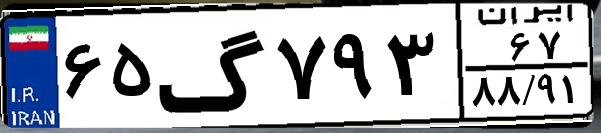1: (560, 70, 590, 125)
3: (385, 28, 445, 110)
5: (110, 28, 156, 98)
6: (57, 26, 110, 100), (508, 27, 537, 80)
7: (270, 28, 330, 110), (537, 27, 568, 80)
8: (470, 70, 495, 125), (495, 70, 520, 125)
9: (330, 28, 385, 110), (535, 70, 560, 125)
گ: (156, 12, 270, 120)
